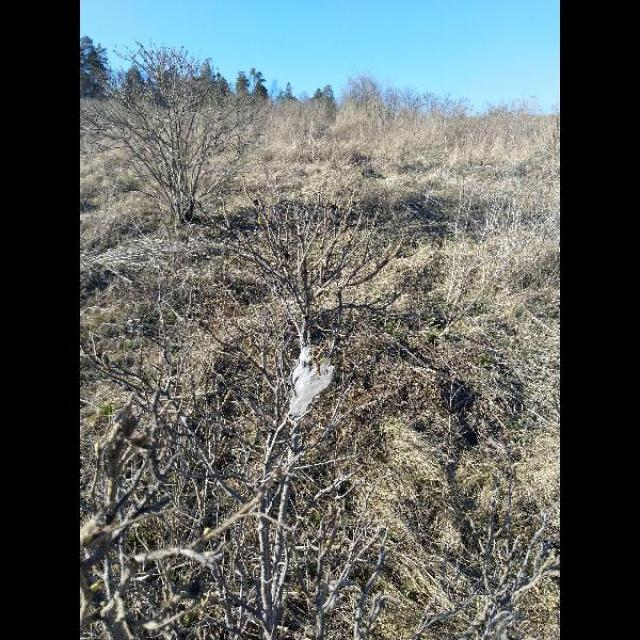plastic_waste: (266, 319, 346, 431)
